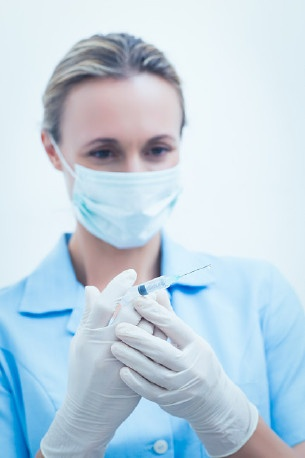Mask: (68, 125, 194, 252)
